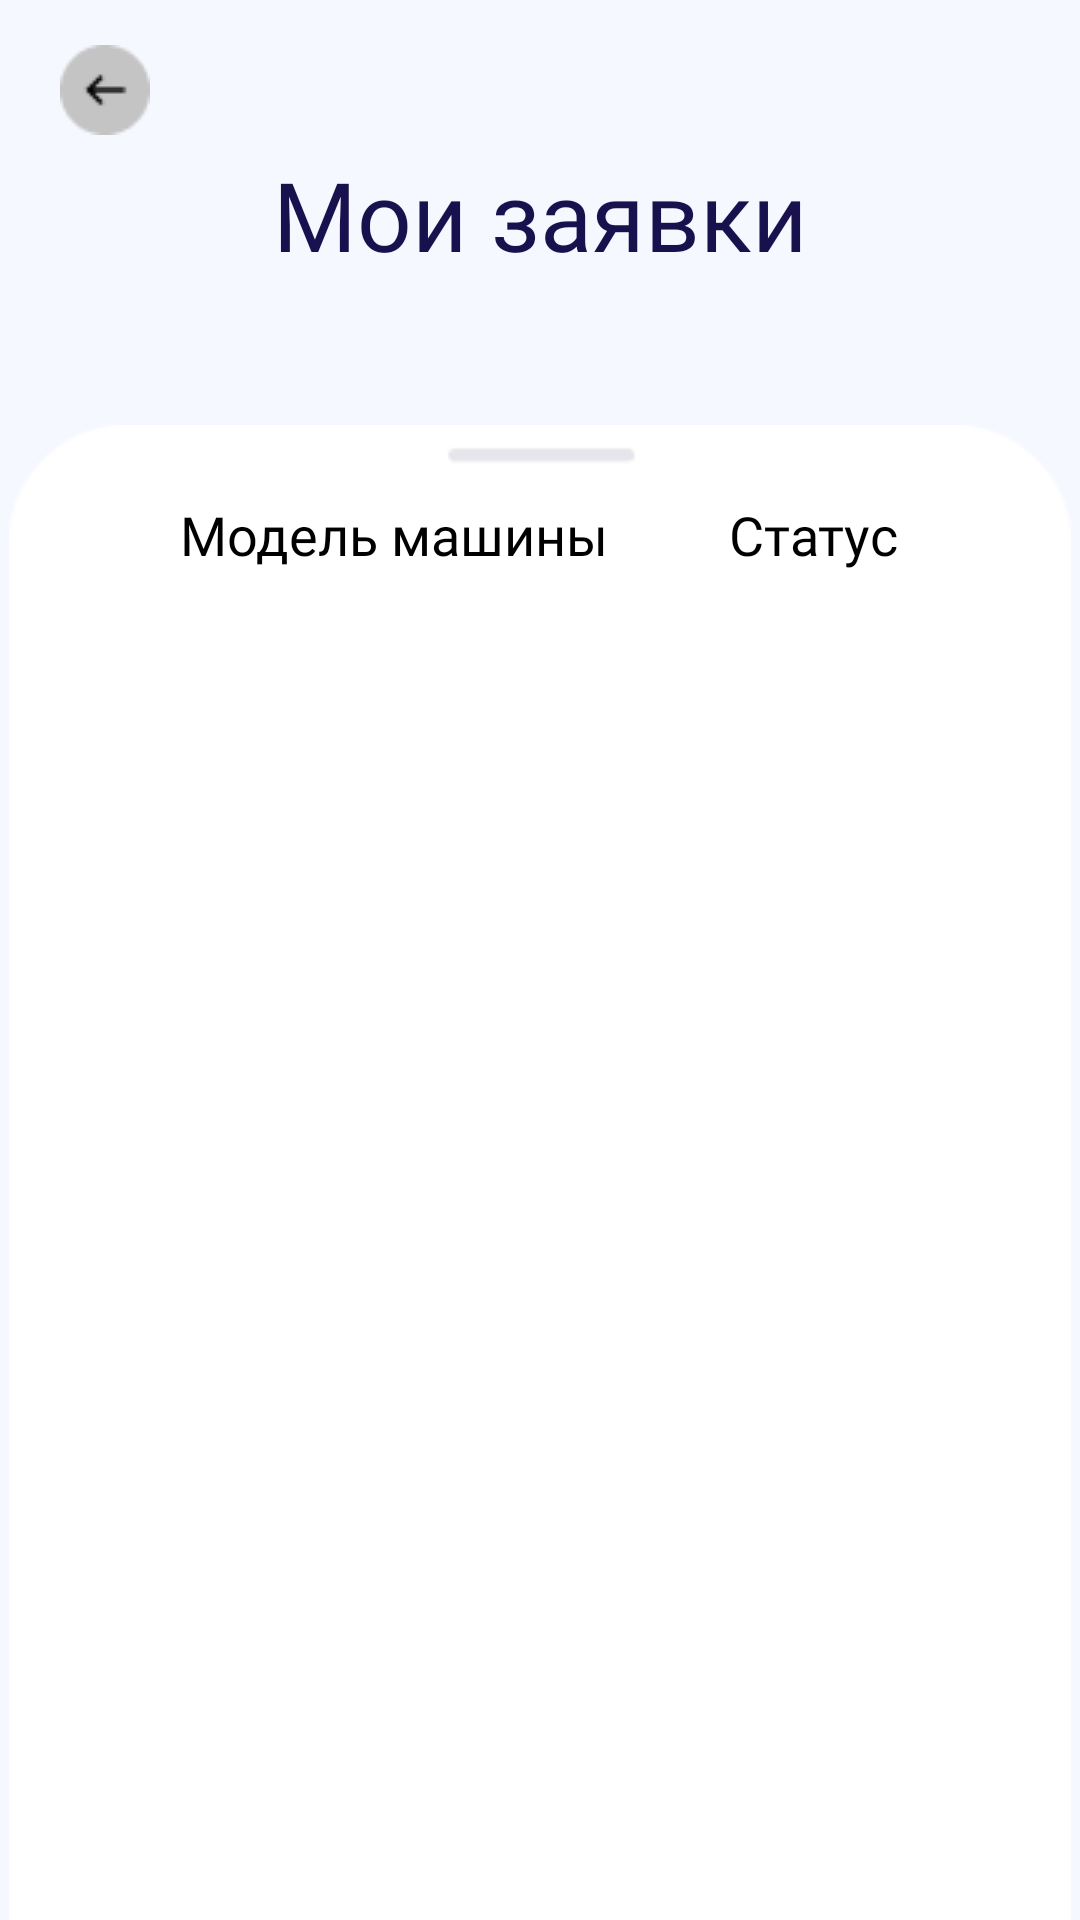

Where icons sit on this 1080w x 1920h app screen, as (x1, y1, x2, y2):
back butt: (60, 45, 150, 135)
